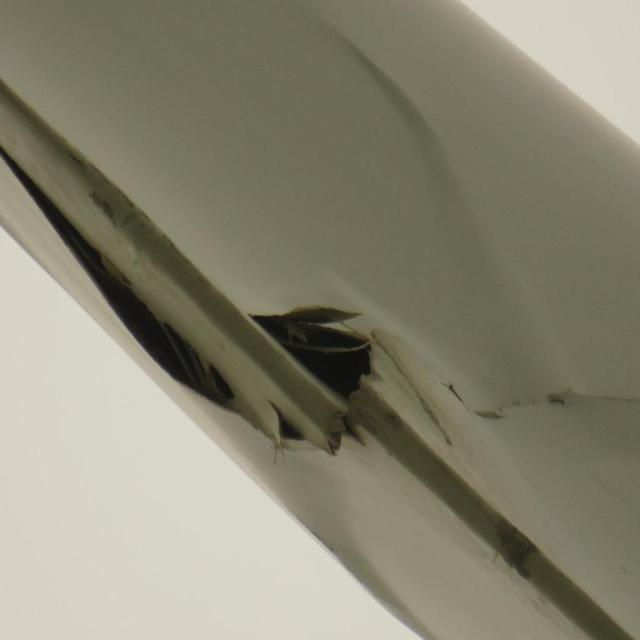crack: (67, 236, 632, 490)
